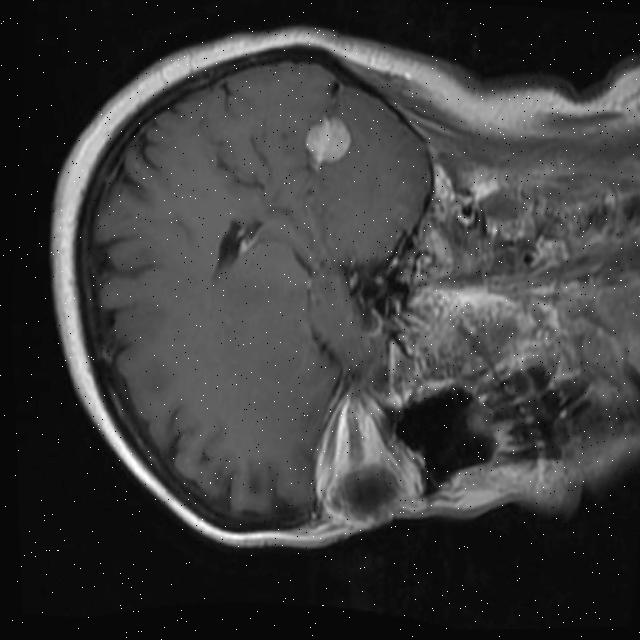Meningioma: (299, 112, 355, 173)
